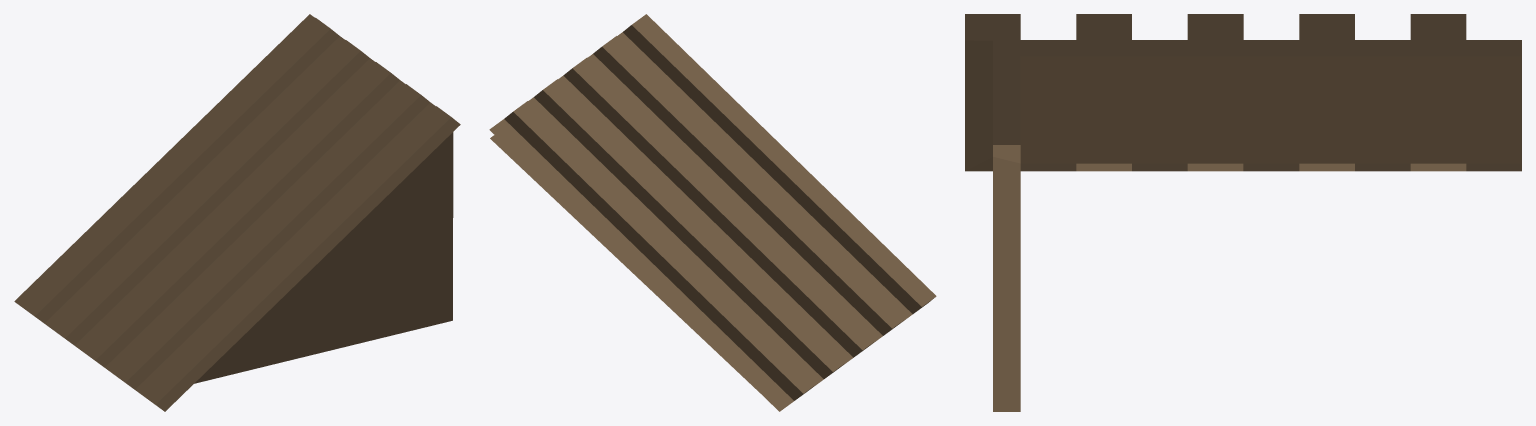
File: Roof_End_1.fbx
3 renders of one model, left to right at view 1: azimuth 30°, elevation 25°; view 2: azimuth 150°, elevation 25°; view 3: azimuth 270°, elevation 25°, orthographic. The views are drawn at different scales.
Parts seen in each view (by area): view 1: Roof_End_1; view 2: Roof_End_1; view 3: Roof_End_1.
Boxes of the visible parts, <box> form: Roof_End_1: <box>14,14,460,411</box>; Roof_End_1: <box>489,14,936,411</box>; Roof_End_1: <box>965,14,1521,411</box>.
Bounding box in the file's own units: 1.17 × 0.8228 × 1.
